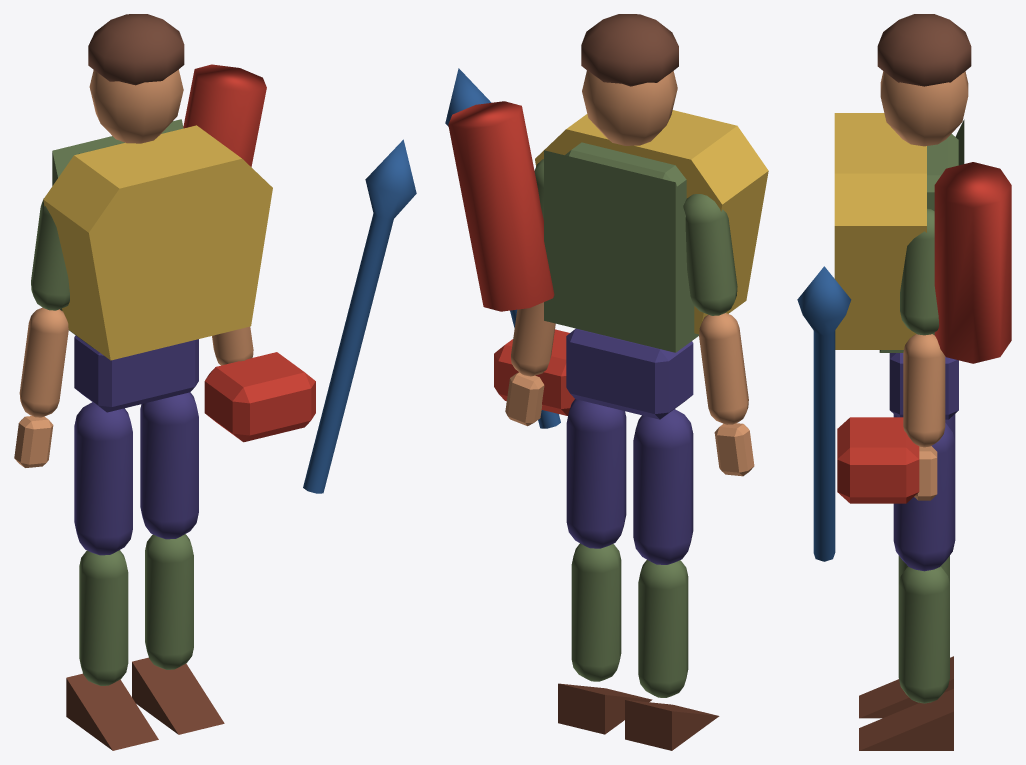
The model's file is adventurer.rustic.glb.
3 renders of one model, left to right at view 1: azimuth 30°, elevation 25°; view 2: azimuth 150°, elevation 25°; view 3: azimuth 270°, elevation 25°, orthographic.
Visible parts, largest first — view 1: accessory.body, accessory.main-hand, thigh.left, thigh.right, accessory.waist, pelvis, shin.left, shin.right, accessory.back, hair, head, foot.left (+6 smaller); view 2: tunic, accessory.back, accessory.body, pelvis, thigh.left, thigh.right, shin.right, shin.left, hair, upper-arm.left, head, forearm.left (+8 smaller); view 3: accessory.body, accessory.back, accessory.main-hand, accessory.waist, shin.right, hair, thigh.right, head, forearm.right, foot.right, upper-arm.right, pelvis (+4 smaller).
Boxes of the visible parts, left/top/right/bottom form: accessory.body: left=43, top=125, right=272, bottom=360; accessory.main-hand: left=303, top=139, right=416, bottom=493; thigh.left: left=74, top=402, right=132, bottom=555; thigh.right: left=140, top=392, right=198, bottom=539; accessory.waist: left=204, top=352, right=315, bottom=442; pelvis: left=74, top=335, right=198, bottom=412; shin.left: left=79, top=550, right=128, bottom=685; shin.right: left=145, top=534, right=193, bottom=669; accessory.back: left=183, top=64, right=266, bottom=166; hair: left=88, top=14, right=184, bottom=85; head: left=89, top=69, right=183, bottom=143; foot.left: left=66, top=673, right=158, bottom=750; tunic: left=544, top=150, right=698, bottom=352; accessory.back: left=448, top=101, right=554, bottom=311; accessory.body: left=535, top=110, right=768, bottom=334; pelvis: left=566, top=328, right=693, bottom=419; thigh.left: left=633, top=409, right=693, bottom=564; thigh.right: left=566, top=399, right=626, bottom=548; shin.right: left=571, top=543, right=621, bottom=681; shin.left: left=638, top=560, right=688, bottom=697; hair: left=581, top=14, right=678, bottom=86; upper-arm.left: left=683, top=194, right=737, bottom=315; head: left=582, top=70, right=677, bottom=145; forearm.left: left=699, top=313, right=748, bottom=424; accessory.body: left=834, top=113, right=926, bottom=349; accessory.back: left=934, top=162, right=1011, bottom=363; accessory.main-hand: left=797, top=266, right=851, bottom=561; accessory.waist: left=837, top=417, right=919, bottom=503; shin.right: left=898, top=566, right=949, bottom=703; hair: left=877, top=14, right=971, bottom=86; thigh.right: left=893, top=423, right=955, bottom=571; head: left=880, top=71, right=968, bottom=146; forearm.right: left=903, top=334, right=945, bottom=447; foot.right: left=859, top=689, right=953, bottom=750; upper-arm.right: left=900, top=208, right=939, bottom=335; pelvis: left=889, top=353, right=958, bottom=419.
Bounding box in the file's own units: 1.59 × 3.03 × 0.8353.
